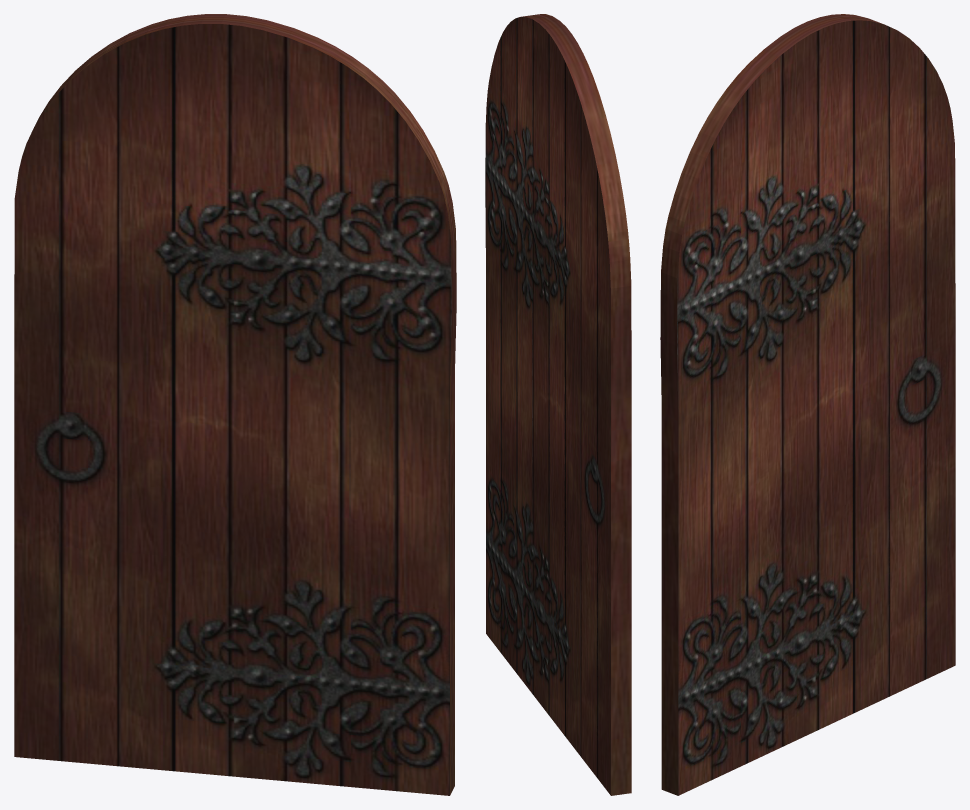
Rendered from door 12.obj.
The picture shows the model from 3 angles, left to right: view 1: azimuth 30°, elevation 25°; view 2: azimuth 150°, elevation 25°; view 3: azimuth 270°, elevation 25°; orthographic projection. The views are drawn at different scales.
Visible parts, largest first — view 1: door_10:Mesh; view 2: door_10:Mesh; view 3: door_10:Mesh.
Boxes of the visible parts, x1=… form: door_10:Mesh: x1=14, y1=14, x2=456, y2=795; door_10:Mesh: x1=485, y1=14, x2=631, y2=795; door_10:Mesh: x1=660, y1=14, x2=955, y2=795.
Bounding box in the file's own units: 50.38 × 120 × 45.79.
Materials: 1 (1 with a texture image).
